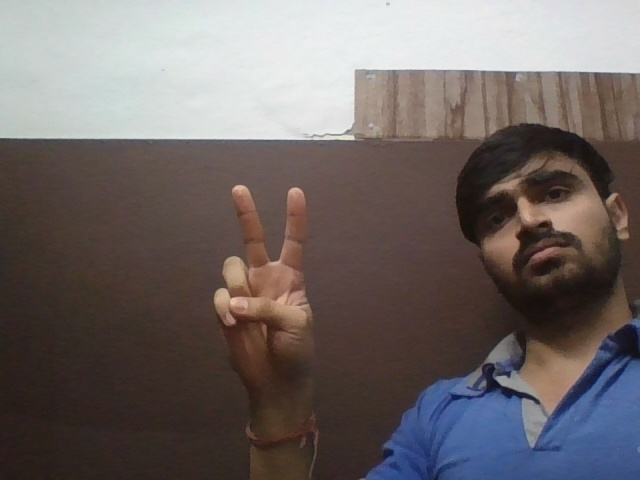V: (211, 178, 326, 406)
